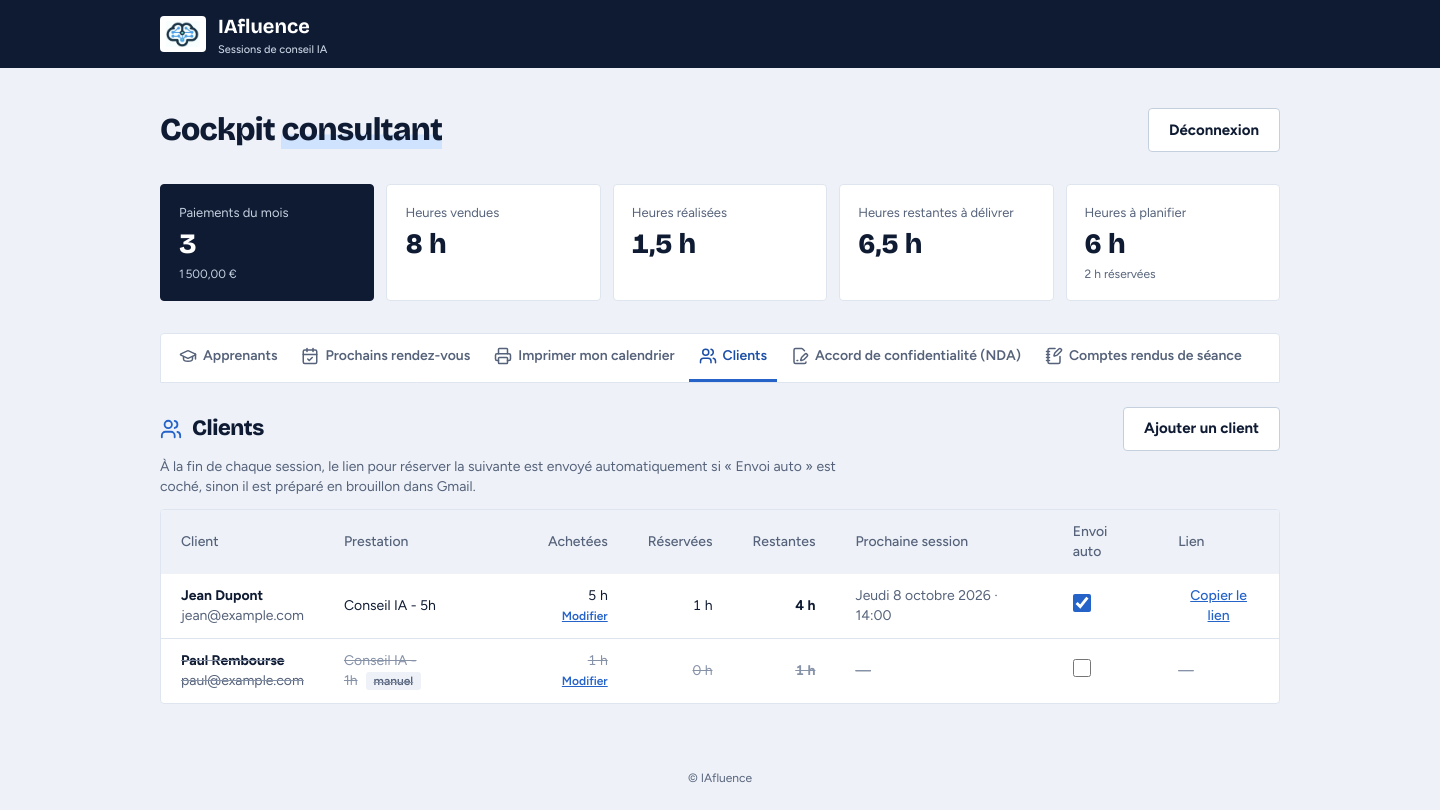
Scenario: Cockpit › shows an error when the auto-send choice cannot be saved
The width and height of the screenshot is (1440, 810).
Click the checkbox named "Envoi automatique pour Paul Rembourse" at [1082, 668], box [1073,658,1091,676]
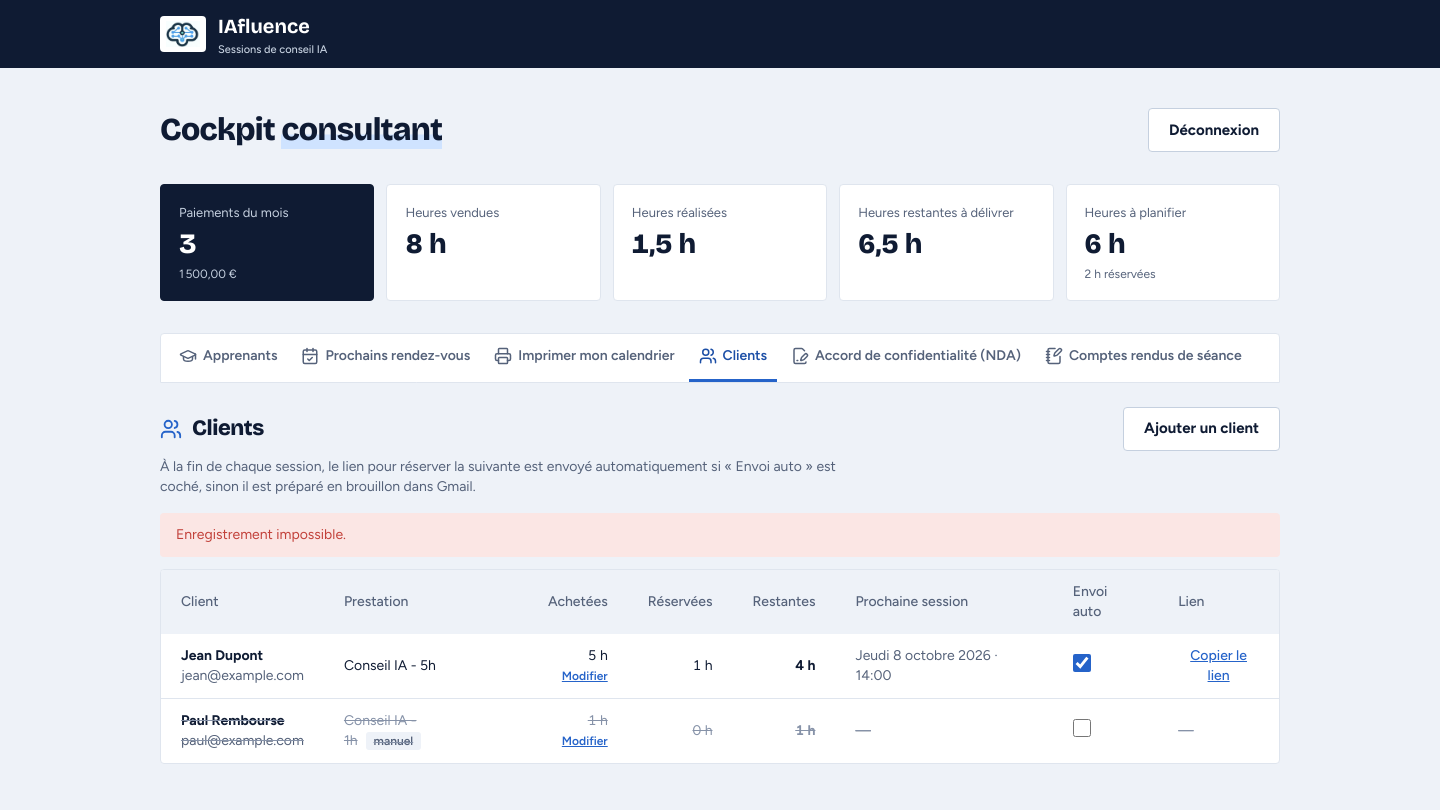
Expected: the checkbox named "Envoi automatique pour Paul Rembourse" is enabled, [1073,718,1091,736]
Now the message reads "Enregistrement impossible.", box [176,526,346,542]
